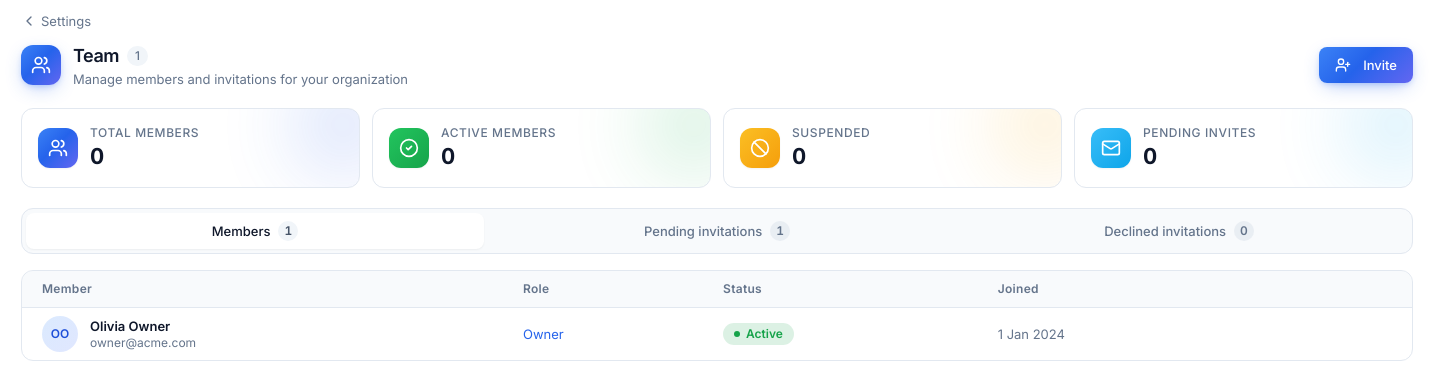
TeamManagementView › shows an error when cancelling an invitation fails
The image size is (1435, 378).
Click the tab "Pending invitations 1": x=717, y=231 [488,213,946,249]
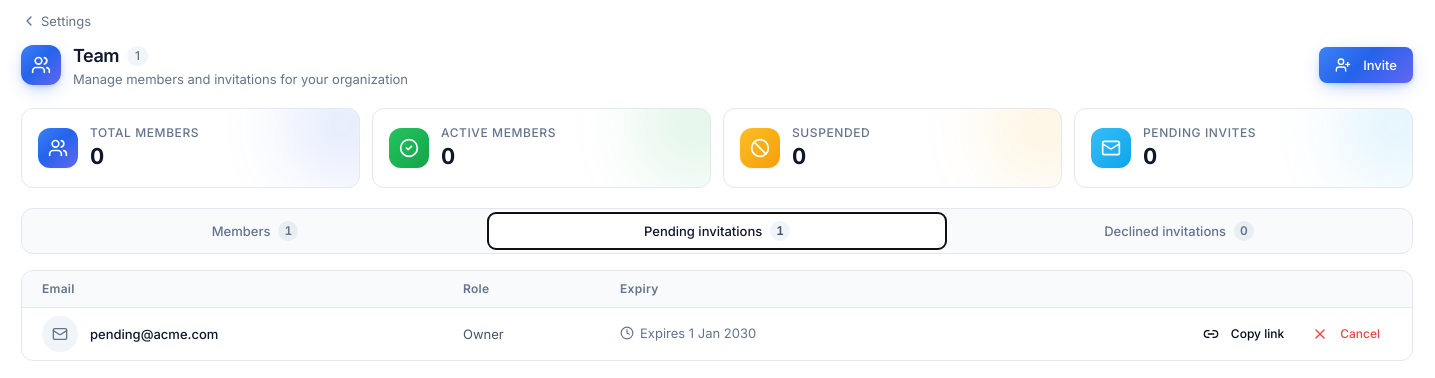
Click the button with aria-label "cancel invitation for pending@acme.com": x=1346, y=334 [1300,318,1392,350]
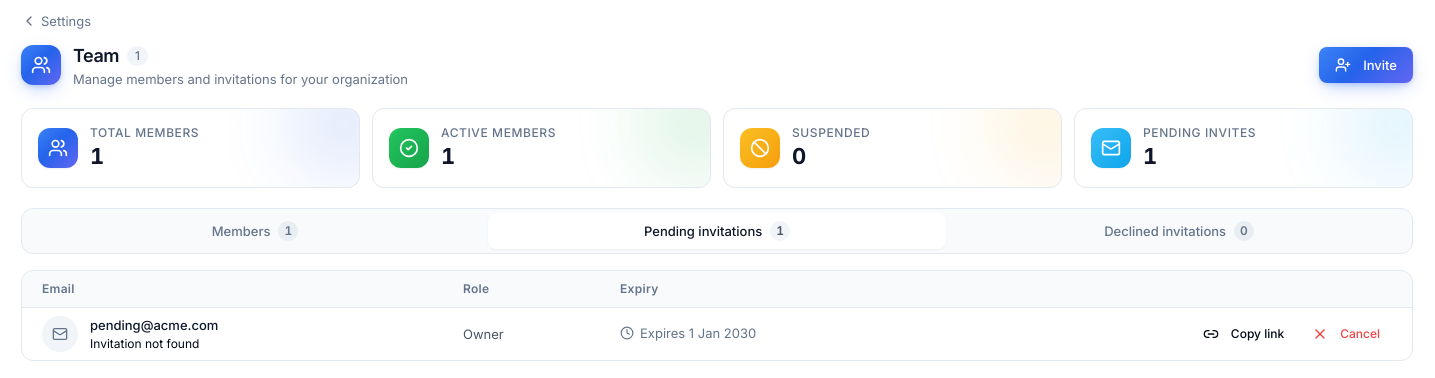
Result: the text "Invitation not found" is shown at [90,336,218,352]
